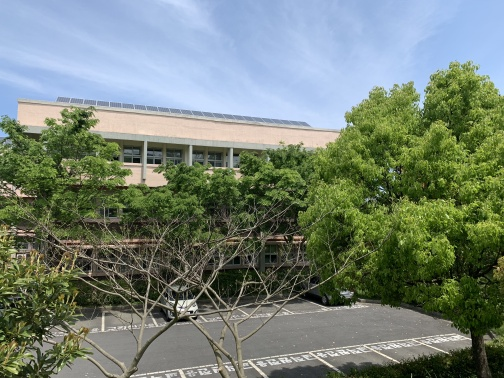College Of Education: (13, 89, 369, 309)
